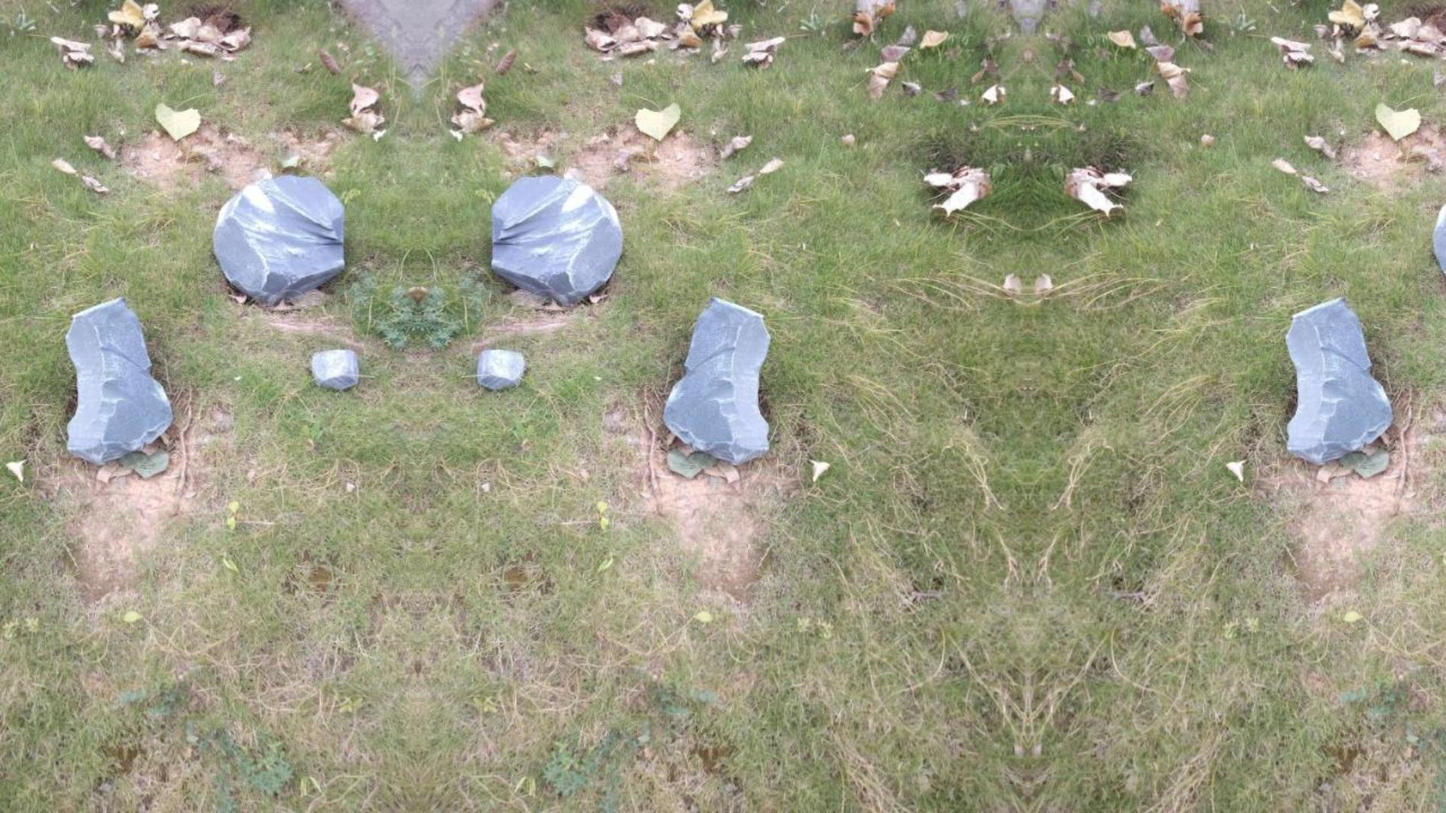rock: (663, 297, 769, 464), (66, 297, 172, 463), (1287, 297, 1392, 463), (491, 175, 621, 304), (214, 175, 343, 304), (477, 349, 524, 390), (311, 349, 358, 390), (1432, 204, 1445, 277)
